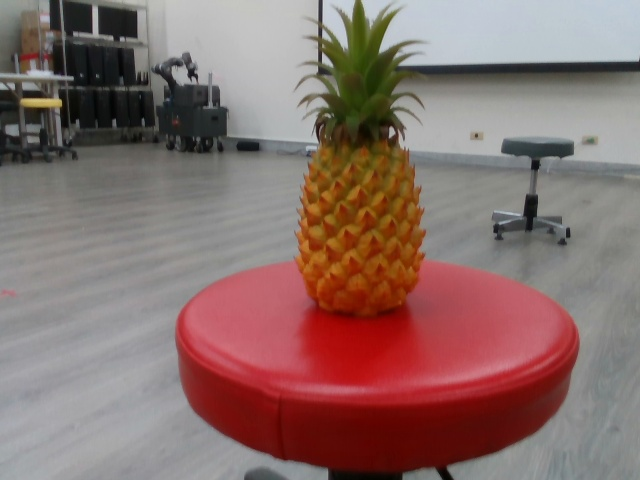pineapple: (292, 4, 431, 322)
